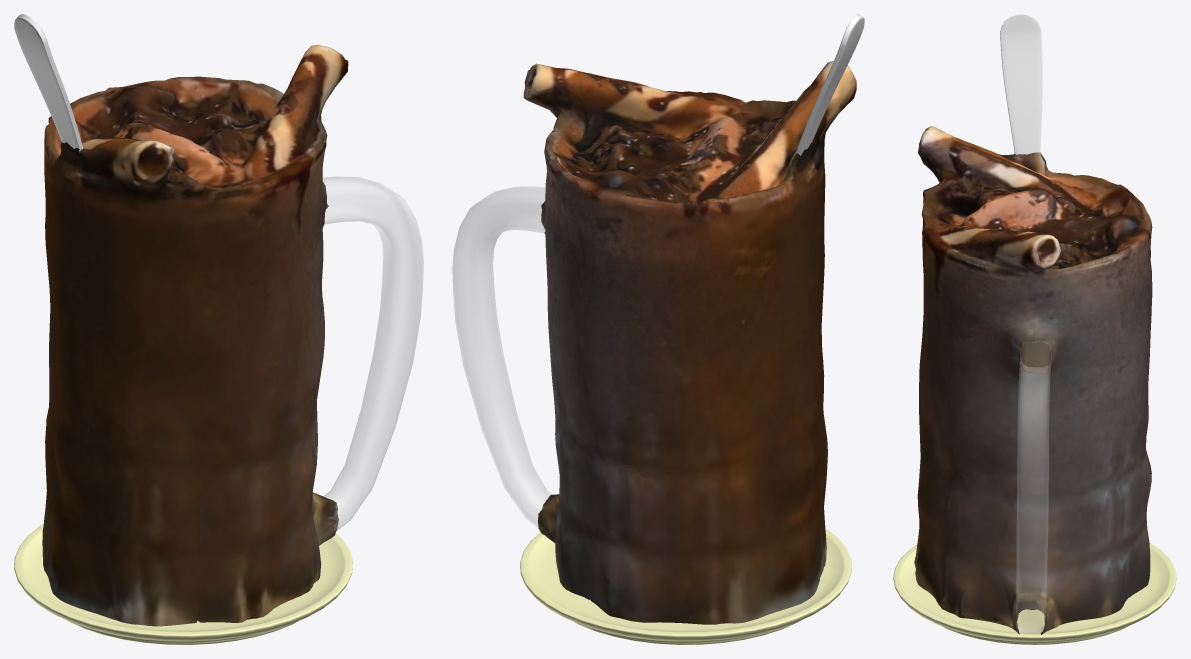
3 renders of one model, left to right at view 1: azimuth 30°, elevation 25°; view 2: azimuth 150°, elevation 25°; view 3: azimuth 270°, elevation 25°, orthographic. The views are drawn at different scales.
Visible parts, largest first — view 1: polySurface10; view 2: polySurface10; view 3: polySurface10.
Boxes of the visible parts, x1=… form: polySurface10: x1=14, y1=14, x2=423, y2=644; polySurface10: x1=452, y1=14, x2=864, y2=644; polySurface10: x1=893, y1=14, x2=1176, y2=644.
Bounding box in the file's own units: 5.06 × 7.36 × 3.69.
Materials: 4 (1 with a texture image).
